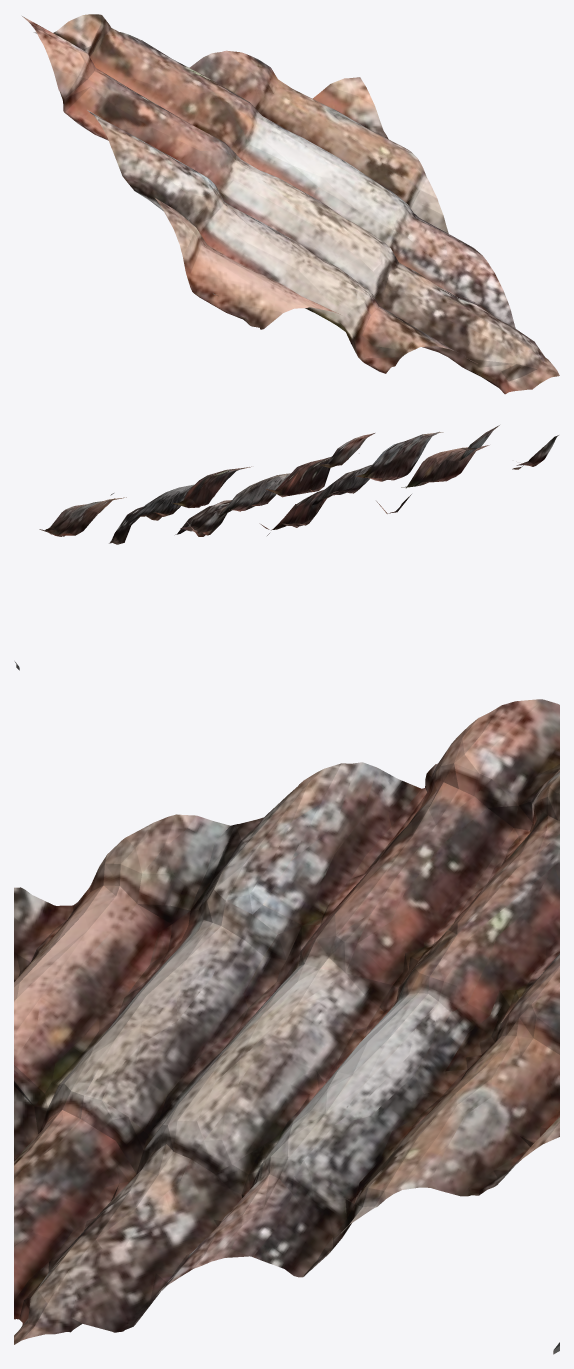
3 renders of one model, top to bottom at view 1: azimuth 30°, elevation 25°; view 2: azimuth 150°, elevation 25°; view 3: azimuth 270°, elevation 25°, orthographic. The views are drawn at different scales.
Size of the model in its own units: 0.8374 by 0.7186 by 0.8373.
3 materials, 3 textured.
